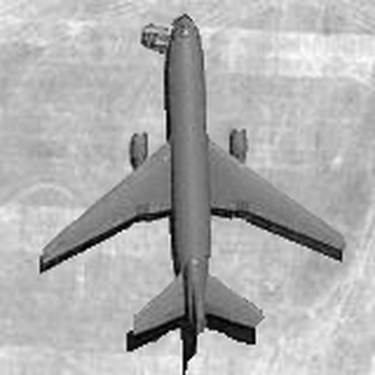airplane: (30, 9, 352, 369)
